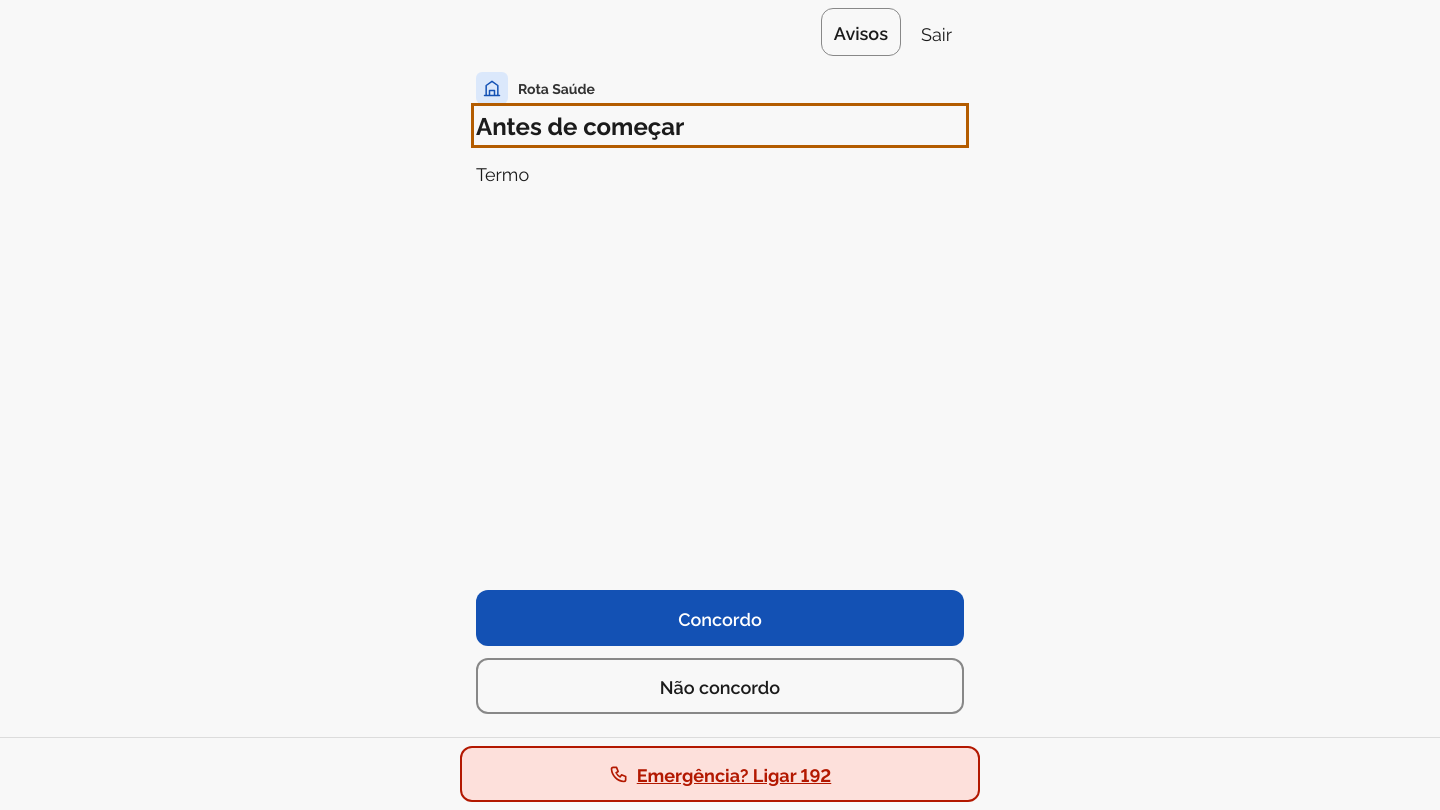
Test: Flow — Minhas viagens (módulo 30) › com sanitary_transport: Minhas triagens → Minhas viagens → Voltar
Step 1. Click the button "Concordo" → (720, 618), box top-left (476, 590), bottom-right (964, 646)
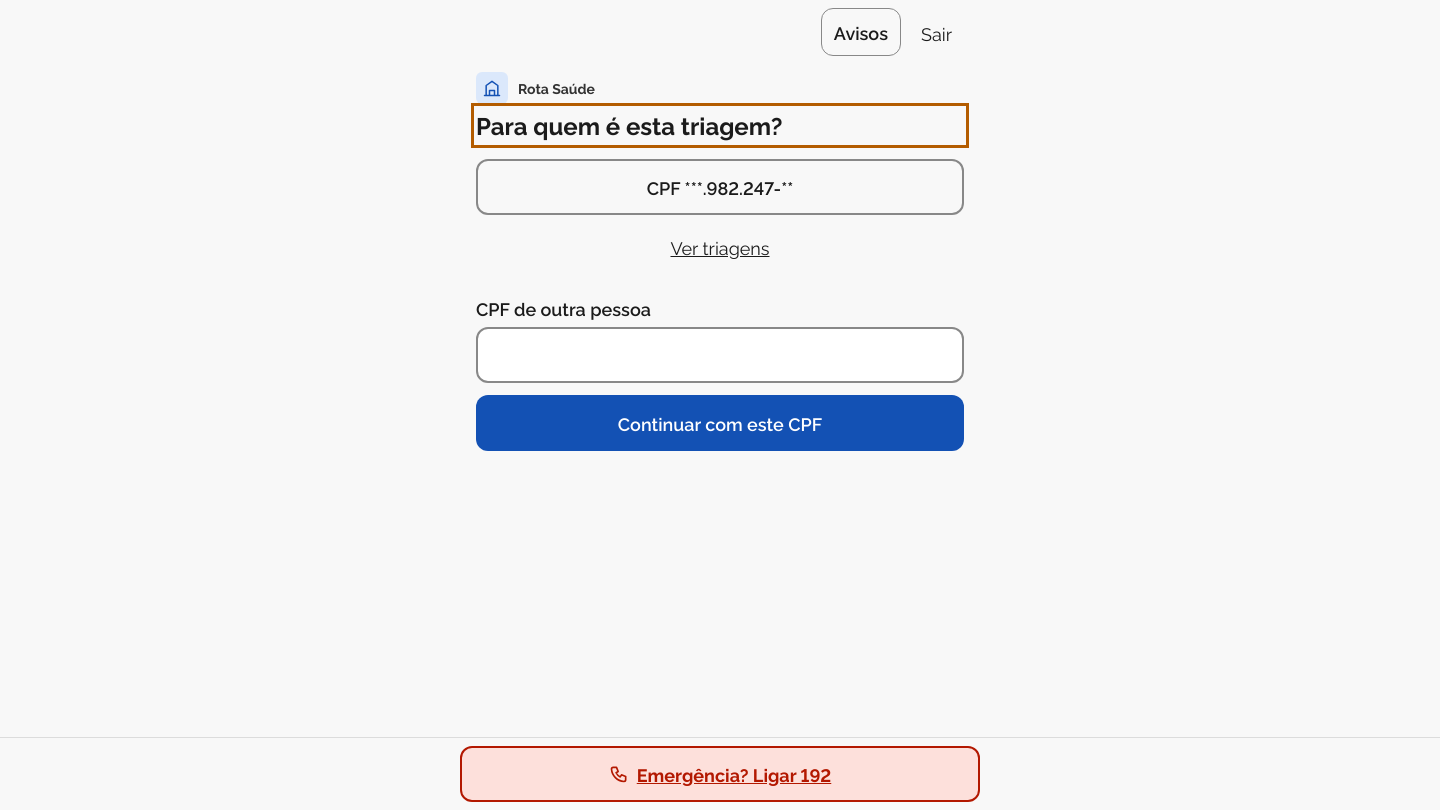
Step 2. Click the button with aria-label "Ver triagens de ***.982.247-**" → (720, 247), box top-left (476, 223), bottom-right (964, 271)
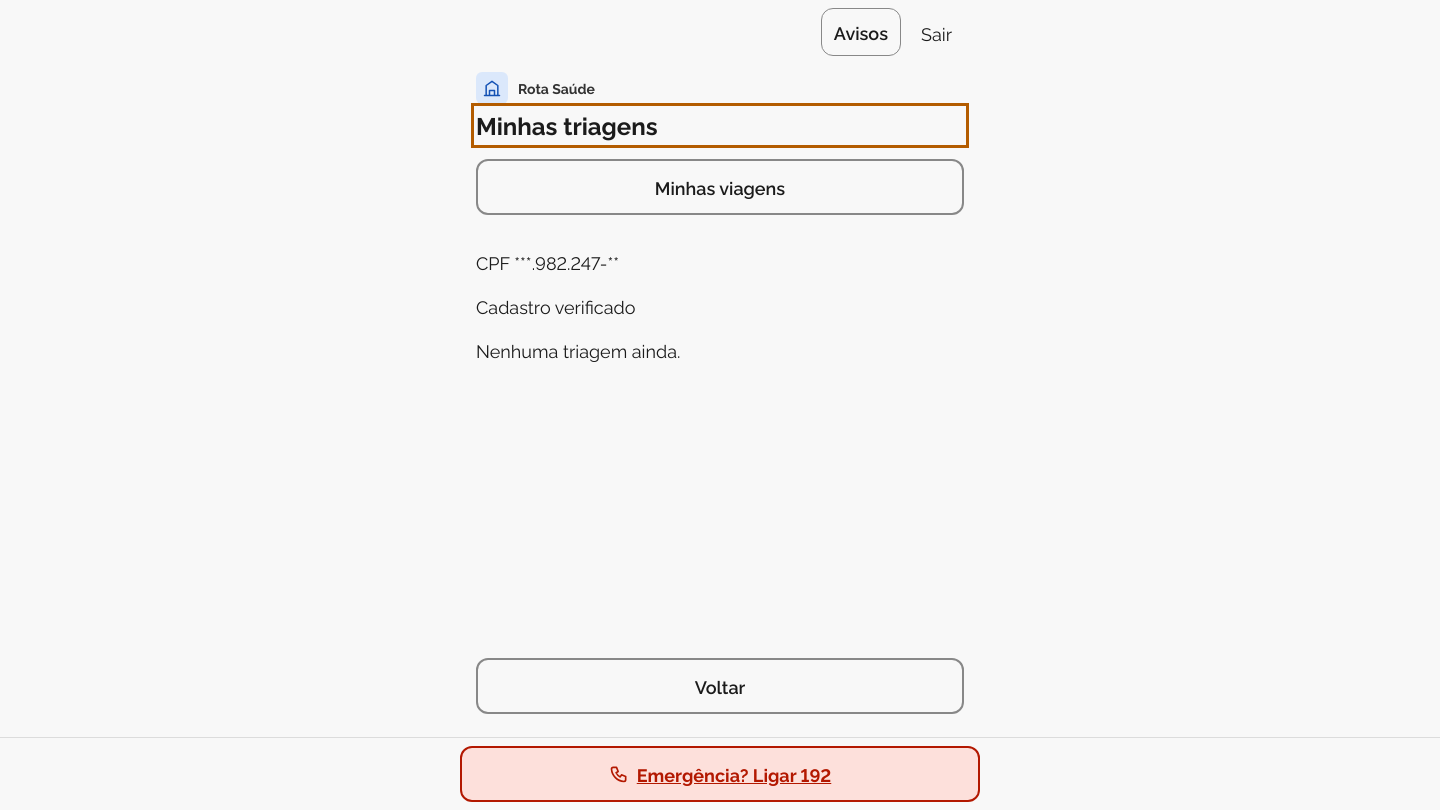
Step 3. Click the button "Minhas viagens" → (720, 187), box top-left (476, 159), bottom-right (964, 215)
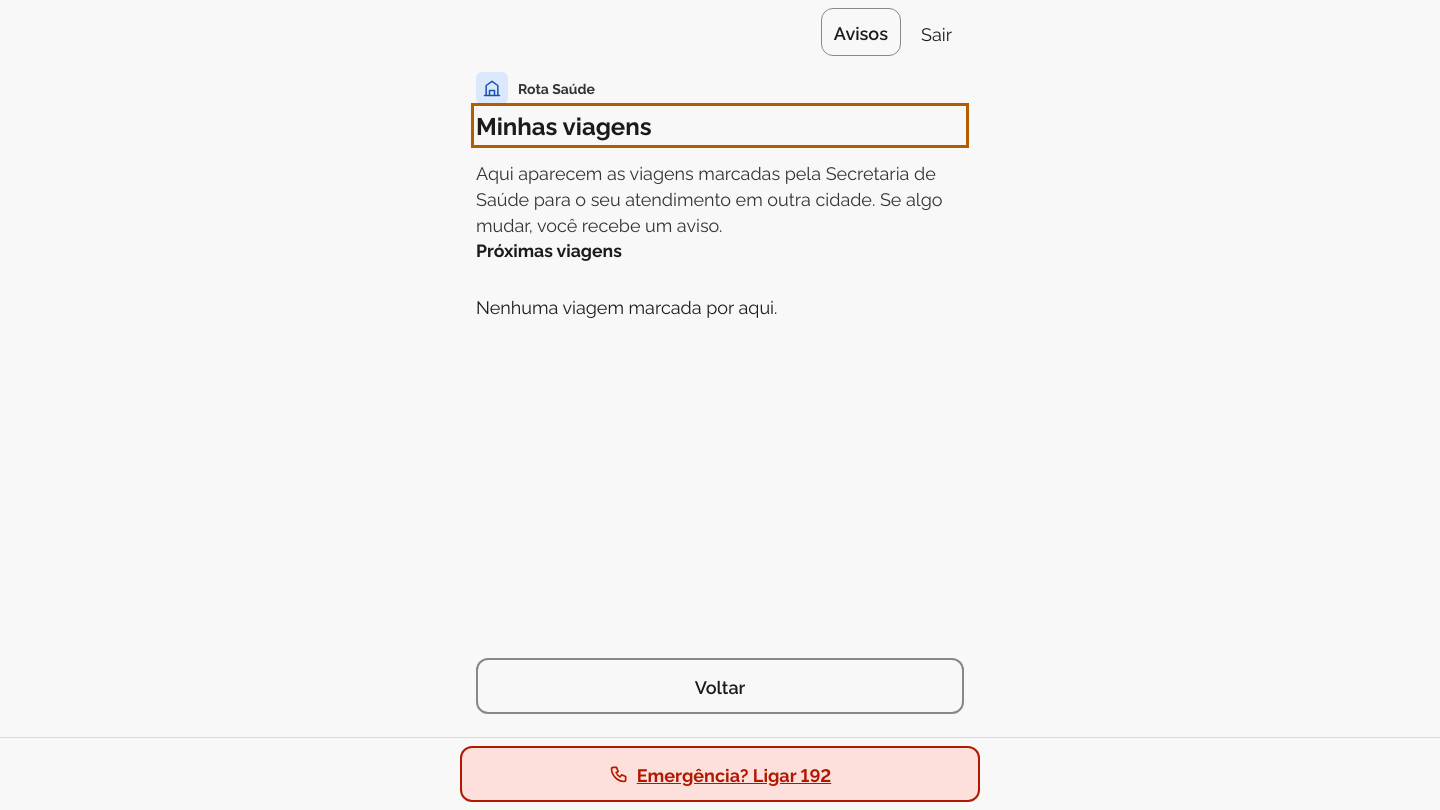
Result: the heading "Minhas viagens" is shown at top-left (476, 108), bottom-right (652, 141)
Result: the text "Nenhuma viagem marcada por aqui." is shown at top-left (476, 293), bottom-right (777, 318)
Step 4. Click the button "Voltar" → (720, 686), box top-left (476, 658), bottom-right (964, 714)
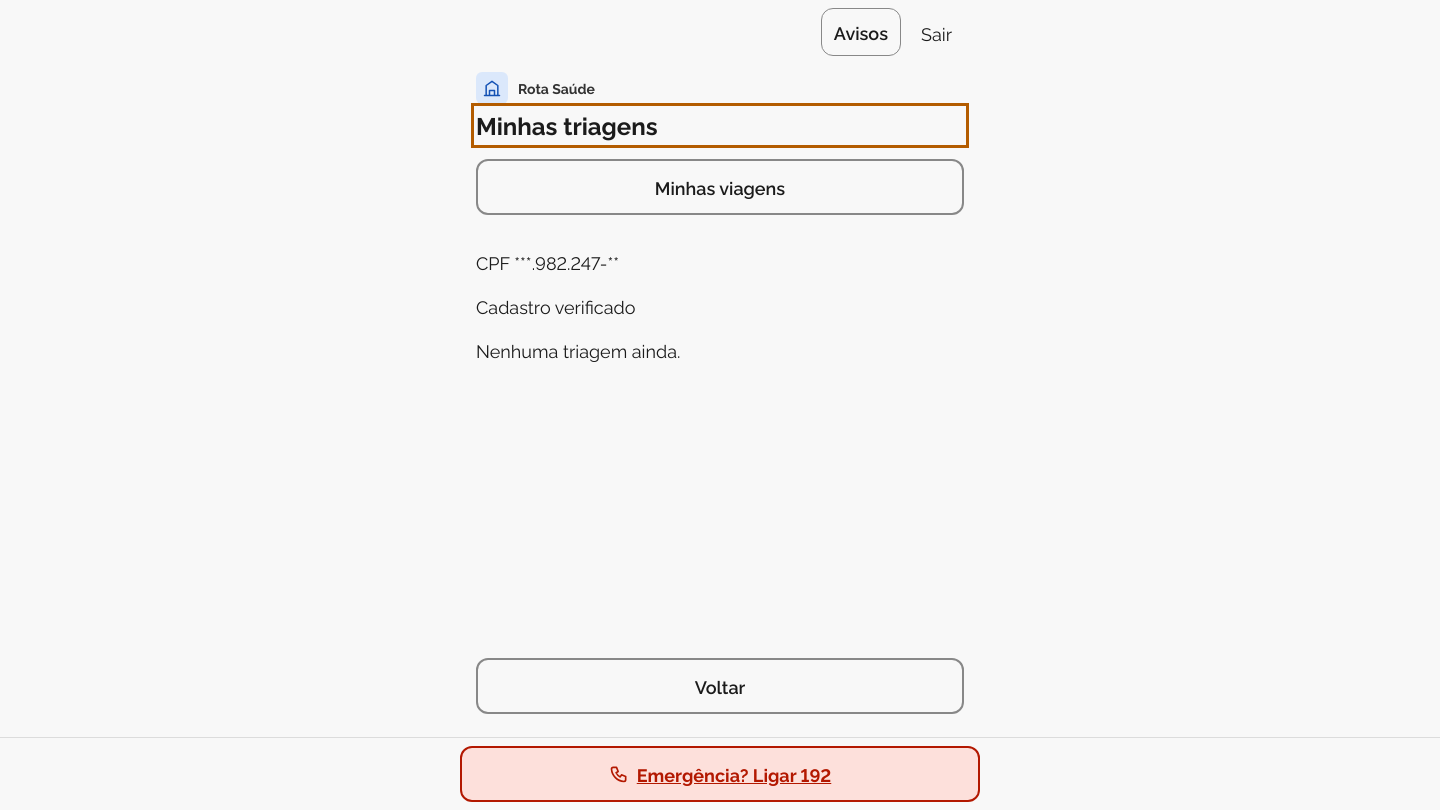
Result: the heading "Minhas triagens" is shown at top-left (476, 108), bottom-right (658, 141)
